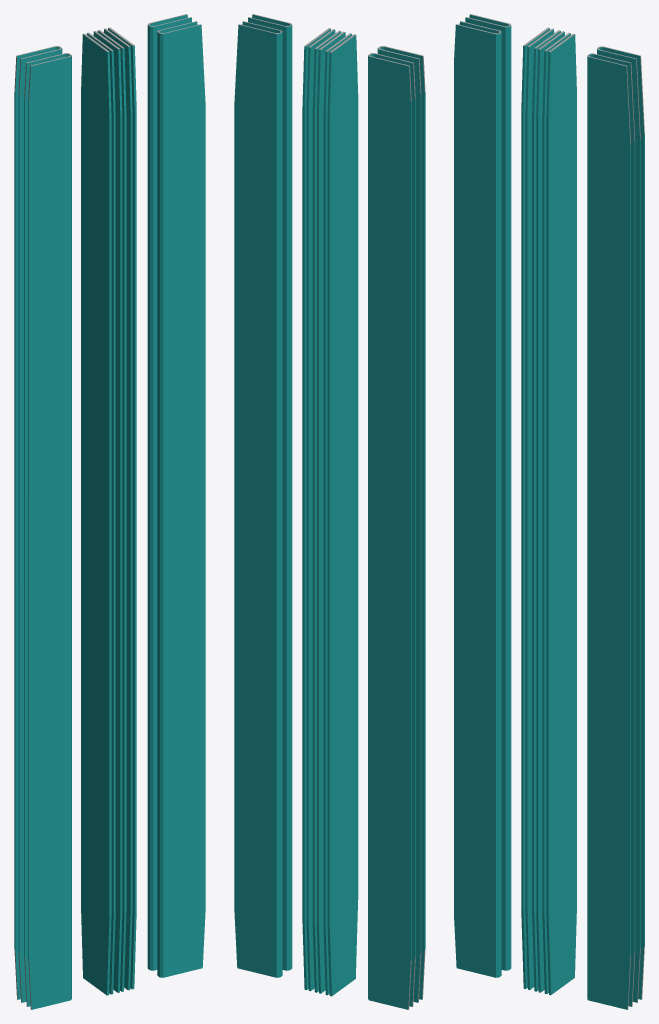
Rendered from wall gen 2.fbx.
The picture shows the model from 3 angles, left to right: view 1: azimuth 30°, elevation 25°; view 2: azimuth 150°, elevation 25°; view 3: azimuth 330°, elevation 25°; orthographic projection.
Parts seen in each view (by area): view 1: polySurface1522; view 2: polySurface1522; view 3: polySurface1522.
Boxes of the visible parts, x1,y1,x2,y2 form: polySurface1522: [14, 14, 205, 1009]; polySurface1522: [234, 14, 425, 1009]; polySurface1522: [454, 14, 644, 1009].
Size of the model in its own units: 107 by 545 by 29.86.
